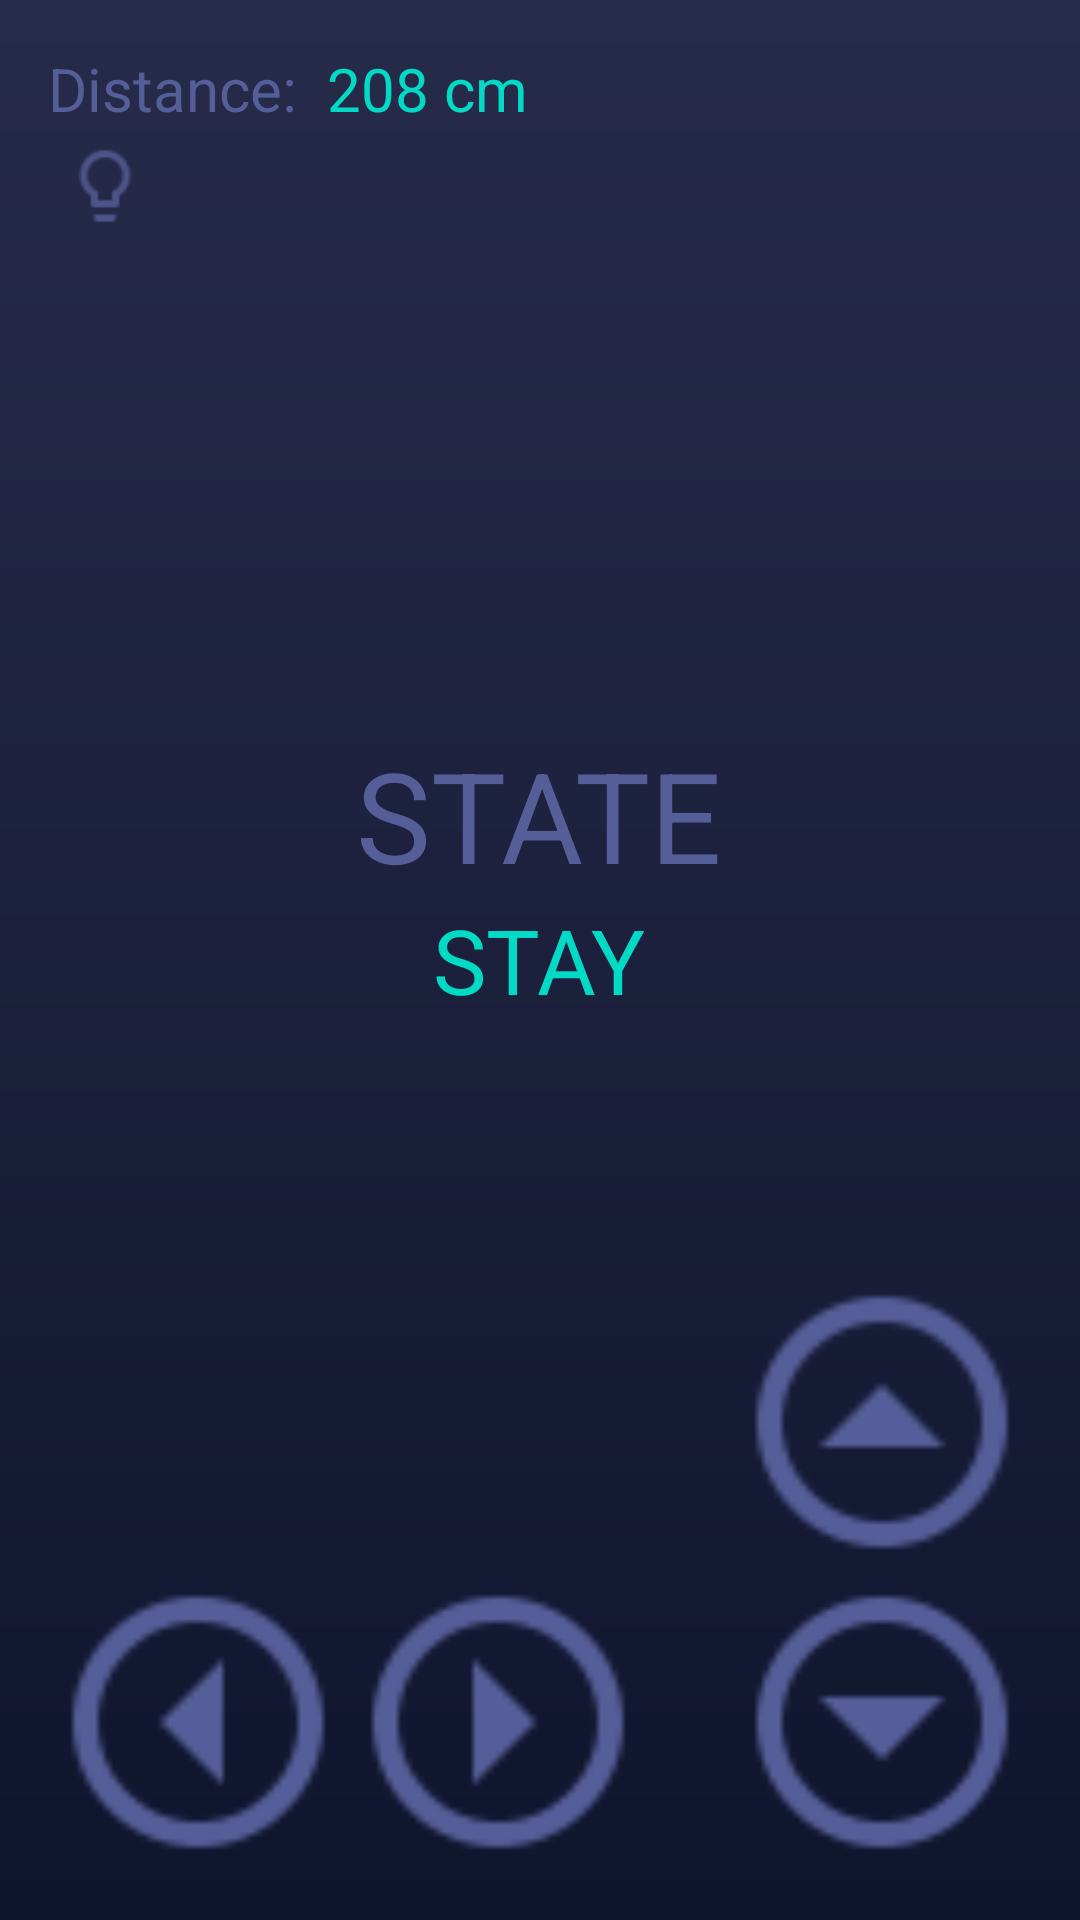

Icons on this 1080w x 1920h Android screen, each with the point to tap as [x,y]:
arrow down: [882,1721]
arrow left: [198,1721]
arrow right: [498,1721]
arrow up: [882,1422]
lightbulb on: [105,186]
